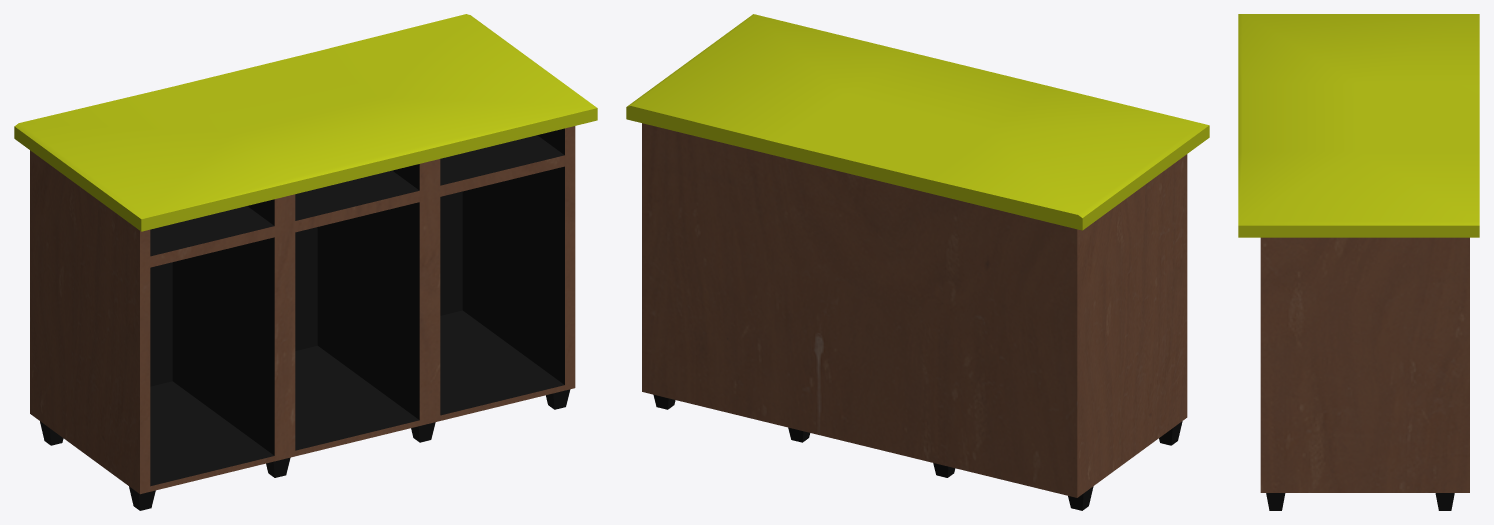
Rendered from SM_Commode.fbx.
3 views of the same model, side by side, from view 1: azimuth 30°, elevation 25°; view 2: azimuth 150°, elevation 25°; view 3: azimuth 270°, elevation 25° (orthographic). The views are drawn at different scales.
Parts seen in each view (by area): view 1: Commode; view 2: Commode; view 3: Commode.
Boxes of the visible parts, x1,y1,x2,y2 form: Commode: (14, 14, 597, 510); Commode: (626, 14, 1209, 510); Commode: (1238, 14, 1479, 510).
Size of the model in its own units: 1.68 by 1.09 by 0.8087.
